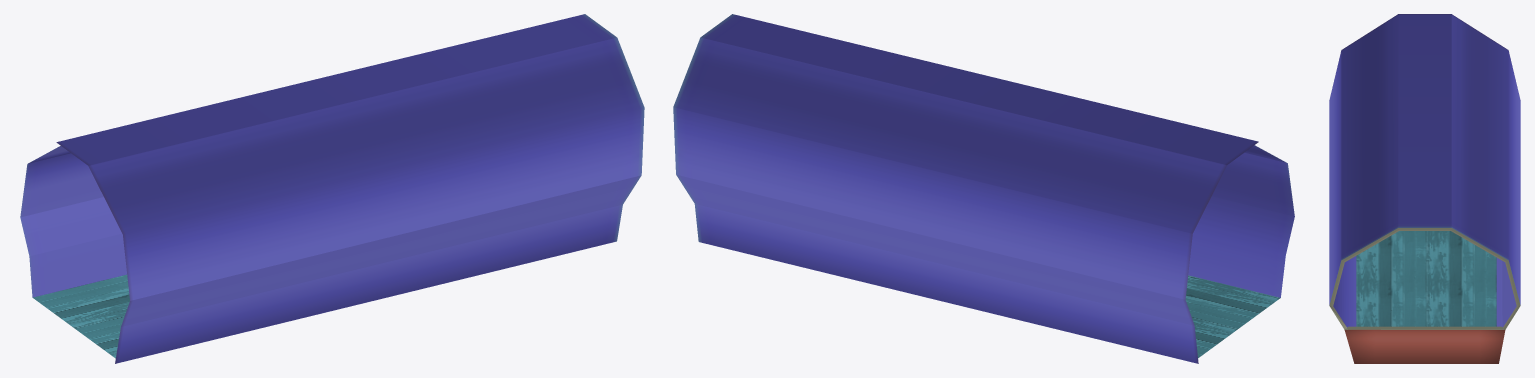
The model's file is booth02.glb.
3 views of the same model, side by side, from view 1: azimuth 30°, elevation 25°; view 2: azimuth 150°, elevation 25°; view 3: azimuth 270°, elevation 25° (orthographic). The views are drawn at different scales.
Parts seen in each view (by area): view 1: booth02; view 2: booth02; view 3: booth02.
Boxes of the visible parts, x1=… form: booth02: x1=20, y1=14, x2=644, y2=363; booth02: x1=673, y1=14, x2=1294, y2=363; booth02: x1=1329, y1=14, x2=1520, y2=363.
Size of the model in its own units: 1985 by 641 by 752.
Materials: 4 (4 with a texture image).
